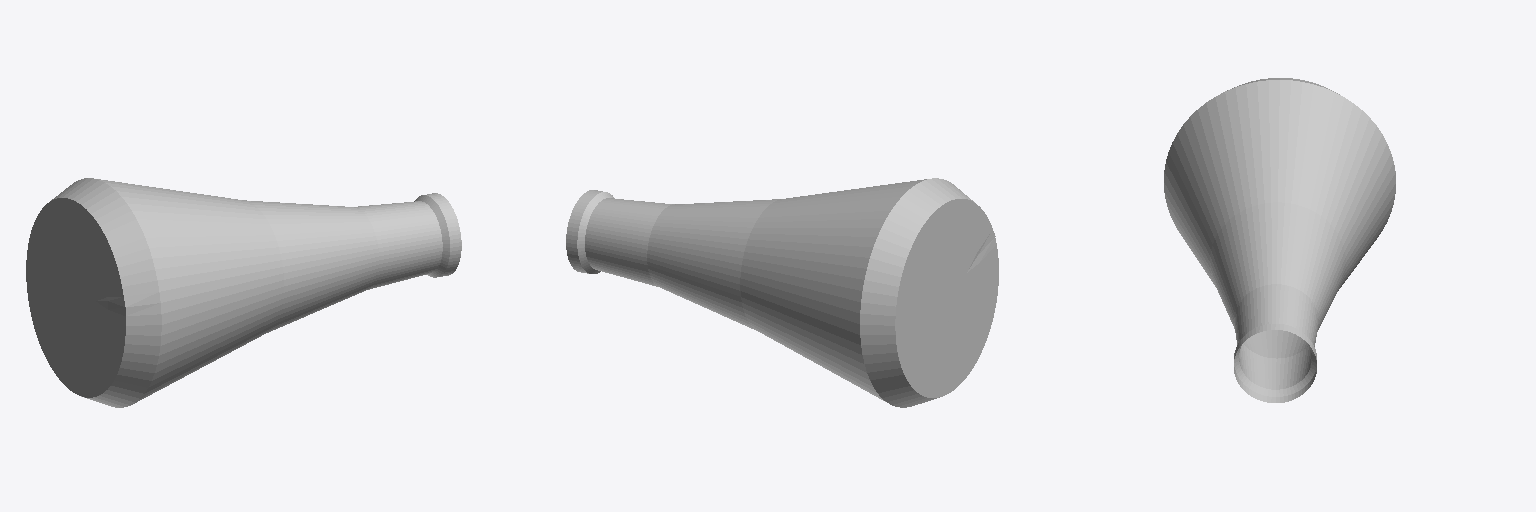
Rendered from Flask.obj.
The picture shows the model from 3 angles: view 1: azimuth 30°, elevation 25°; view 2: azimuth 150°, elevation 25°; view 3: azimuth 270°, elevation 25°; orthographic projection.
Visible parts, largest first — view 1: Circle_Circle.002; view 2: Circle_Circle.002; view 3: Circle_Circle.002.
Part boxes in pixels (x1,y1,x2,y2): Circle_Circle.002: (26, 178, 461, 407); Circle_Circle.002: (566, 178, 998, 407); Circle_Circle.002: (1164, 78, 1395, 402).
Bounding box in the file's own units: 2.87 × 1.56 × 1.56.